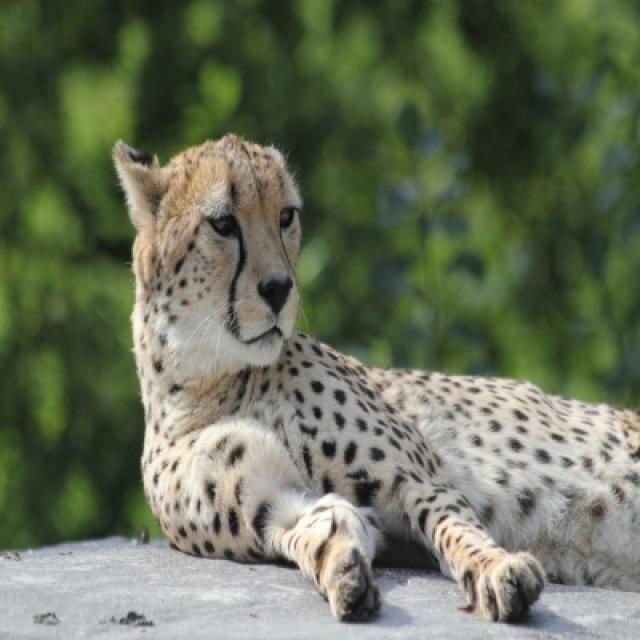Cheetah: (110, 134, 549, 626)
